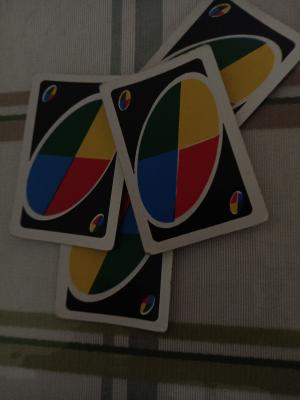wild: (137, 80, 218, 222), (34, 98, 113, 223), (228, 190, 249, 219), (205, 5, 238, 22), (139, 291, 158, 319), (38, 82, 61, 105), (87, 214, 111, 234), (117, 90, 134, 112)
